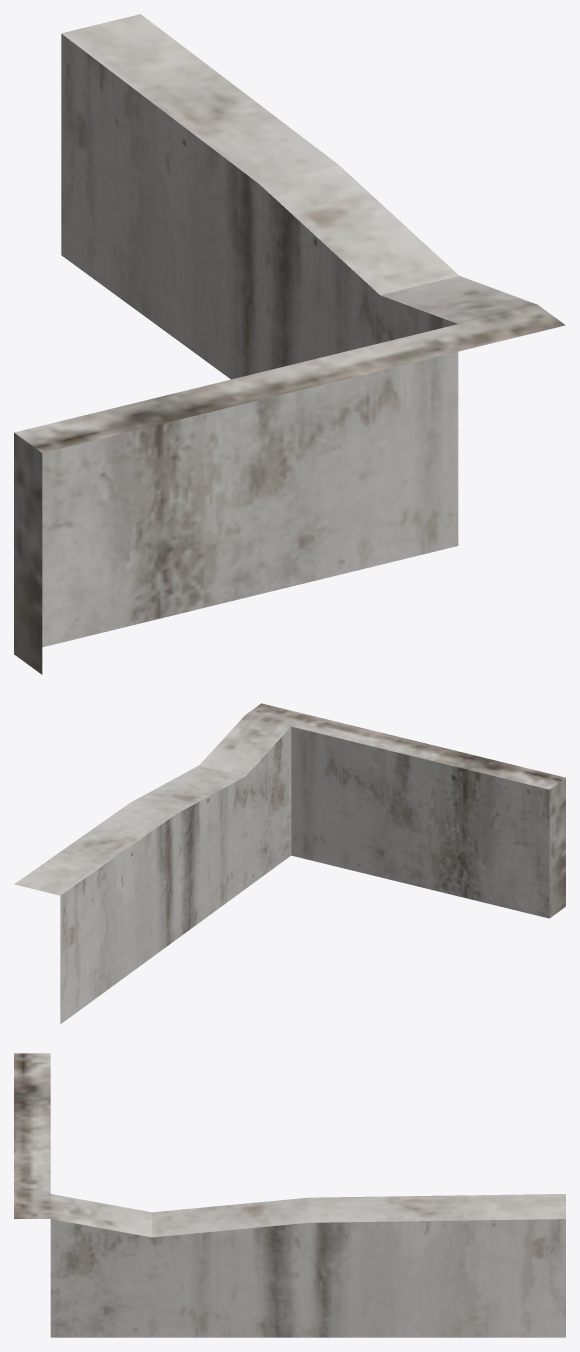
File: Fence1.fbx
3 renders of one model, top to bottom at view 1: azimuth 30°, elevation 25°; view 2: azimuth 150°, elevation 25°; view 3: azimuth 270°, elevation 25°, orthographic. The views are drawn at different scales.
Parts seen in each view (by area): view 1: Cube; view 2: Cube; view 3: Cube.
Part boxes in pixels (x1,y1,x2,y2): Cube: [14, 14, 565, 674]; Cube: [14, 703, 565, 1024]; Cube: [14, 1053, 565, 1337].
Bounding box in the file's own units: 193 × 78.15 × 272.
